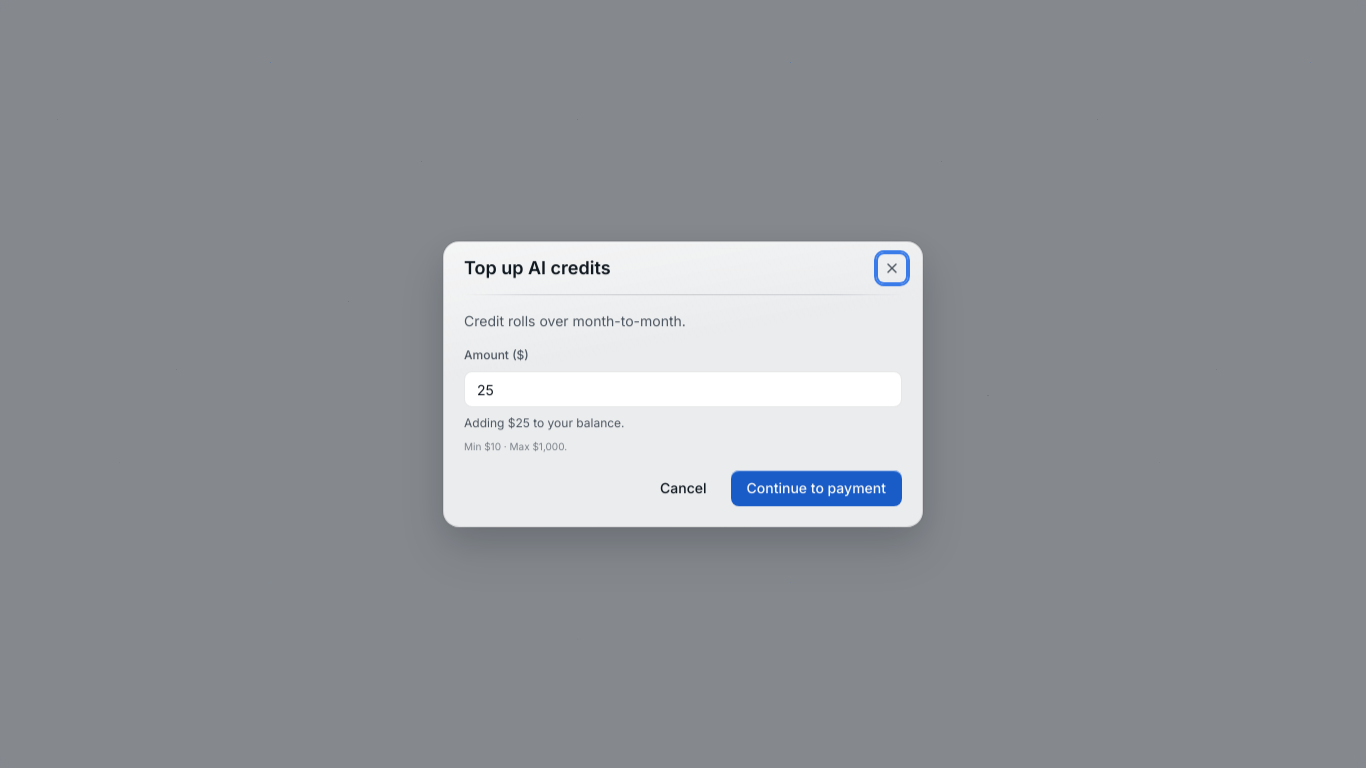
Scenario: CreditsTopupModal › disables submit when amount is below minimum
// $5, below the $10 minimum.
Replace the text in the number field with test id "credits-topup-amount" with "5". click: x=683, y=389
box: 464,371 -> 902,407
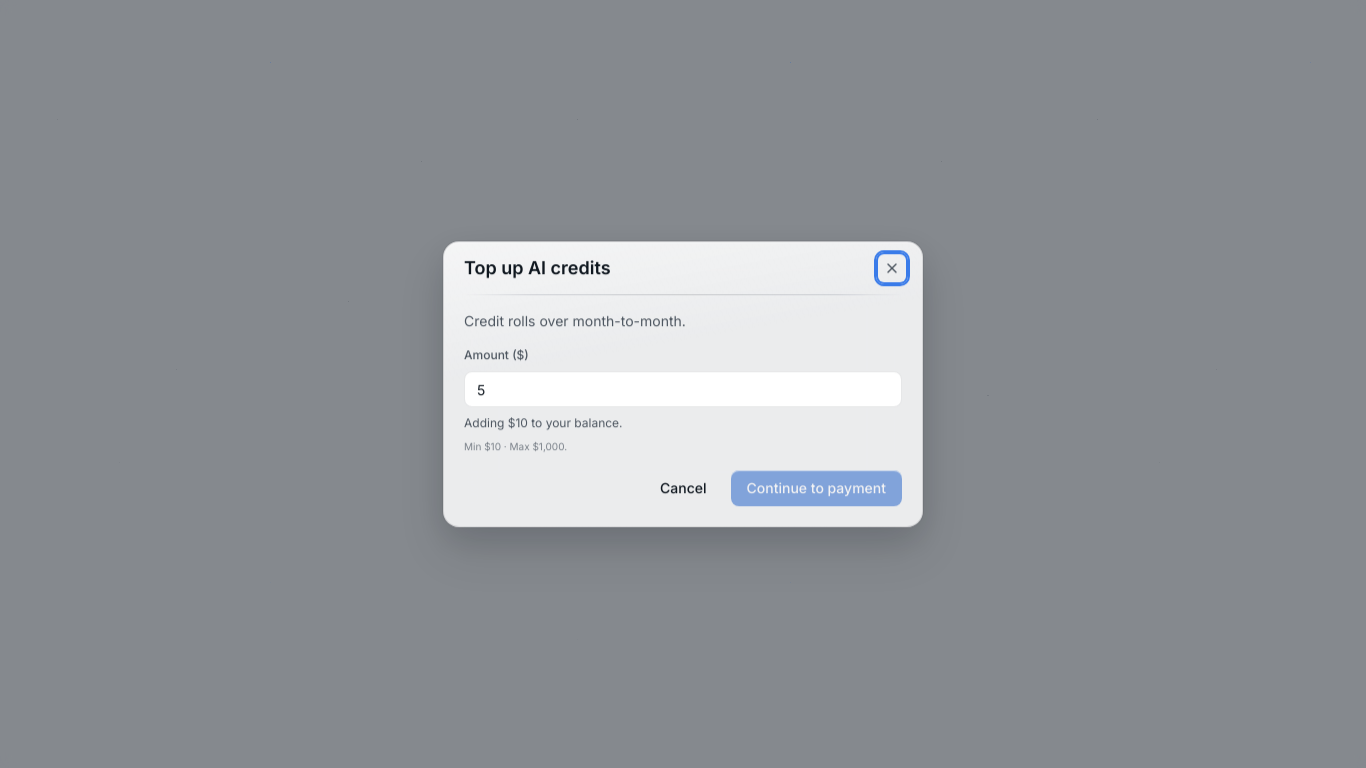
expect the button with test id "credits-topup-submit" is disabled: met, box 730,470 -> 902,506
